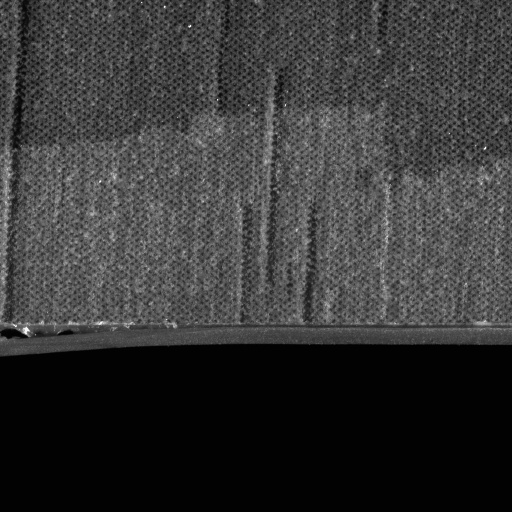kaijiao: (0, 318, 184, 363)
